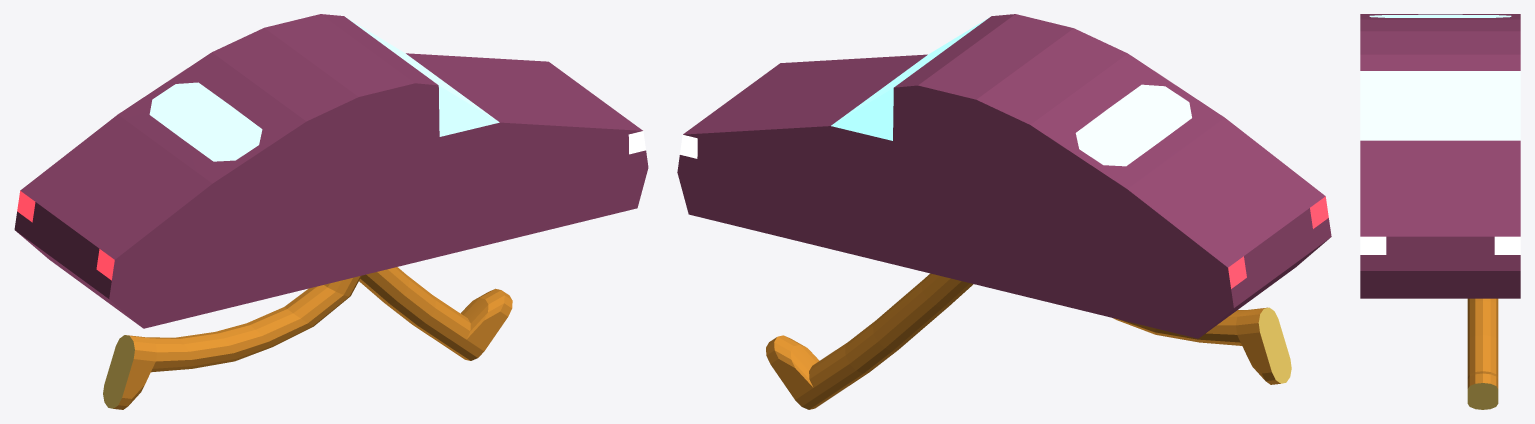
File: Tutur 2.fbx
3 views of the same model, side by side, from view 1: azimuth 30°, elevation 25°; view 2: azimuth 150°, elevation 25°; view 3: azimuth 270°, elevation 25° (orthographic). The views are drawn at different scales.
Parts seen in each view (by area): view 1: Cube, Cylinder, Cylinder.001; view 2: Cube, Cylinder.001, Cylinder; view 3: Cube, Cylinder.001.
Part boxes in pixels (x1,y1,x2,y2): Cube: [14, 14, 648, 328]; Cylinder: [103, 275, 361, 409]; Cylinder.001: [359, 267, 512, 360]; Cube: [677, 14, 1331, 338]; Cylinder.001: [766, 273, 973, 409]; Cylinder: [1113, 307, 1291, 384]; Cube: [1360, 14, 1520, 298]; Cylinder.001: [1467, 298, 1498, 409].
Bounding box in the file's own units: 516 × 328 × 157.
